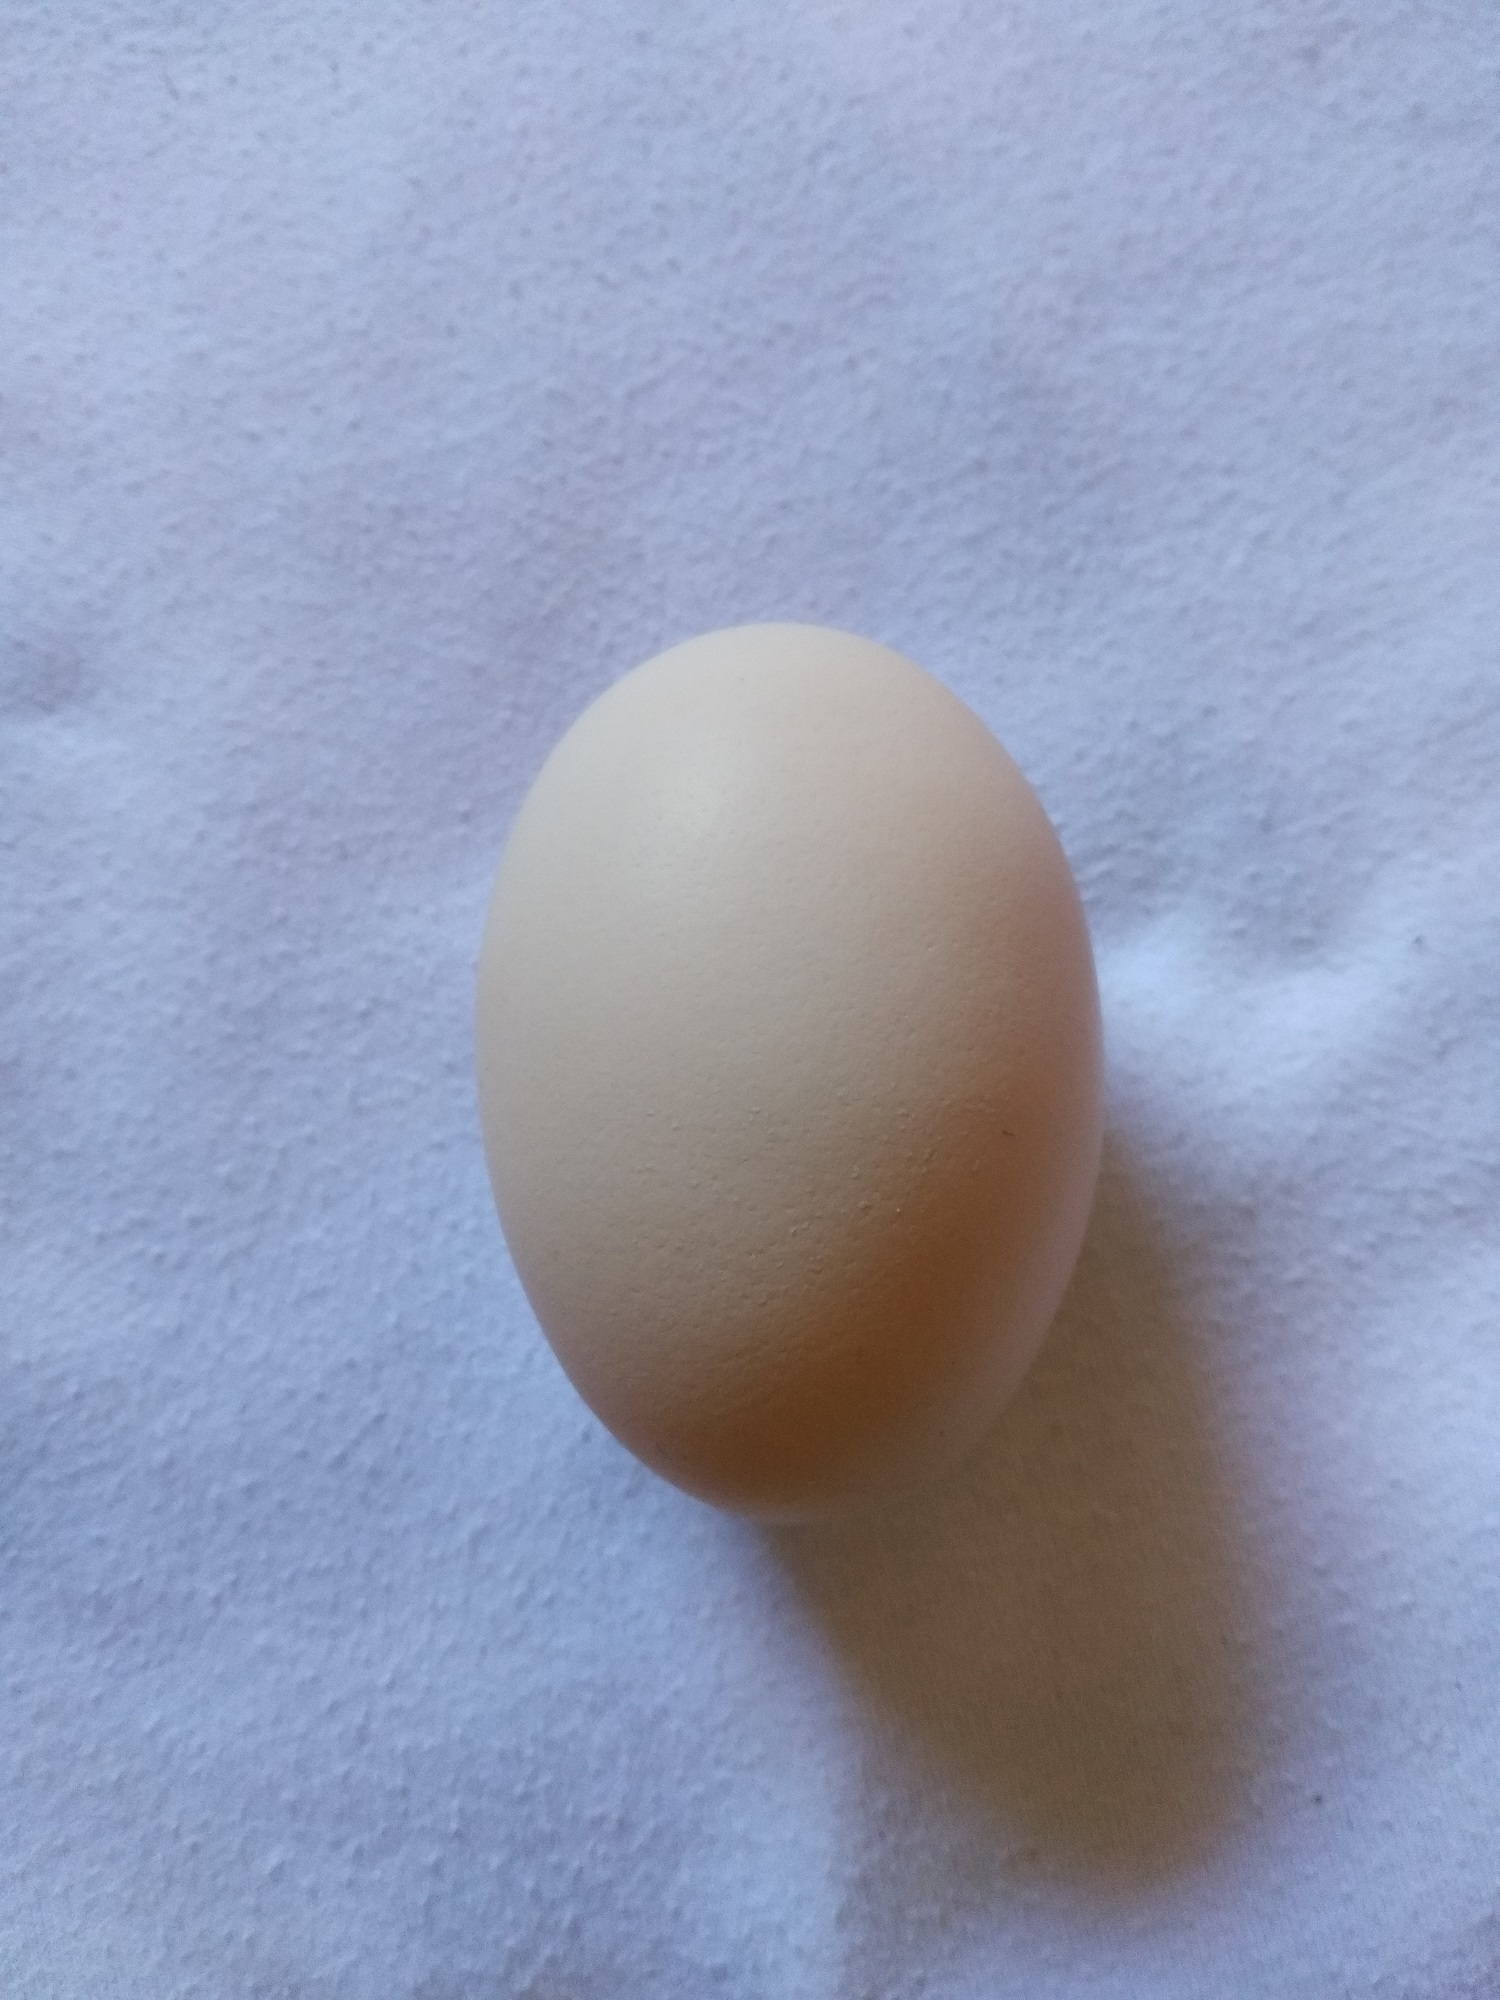Male: (470, 617, 1109, 1531)
